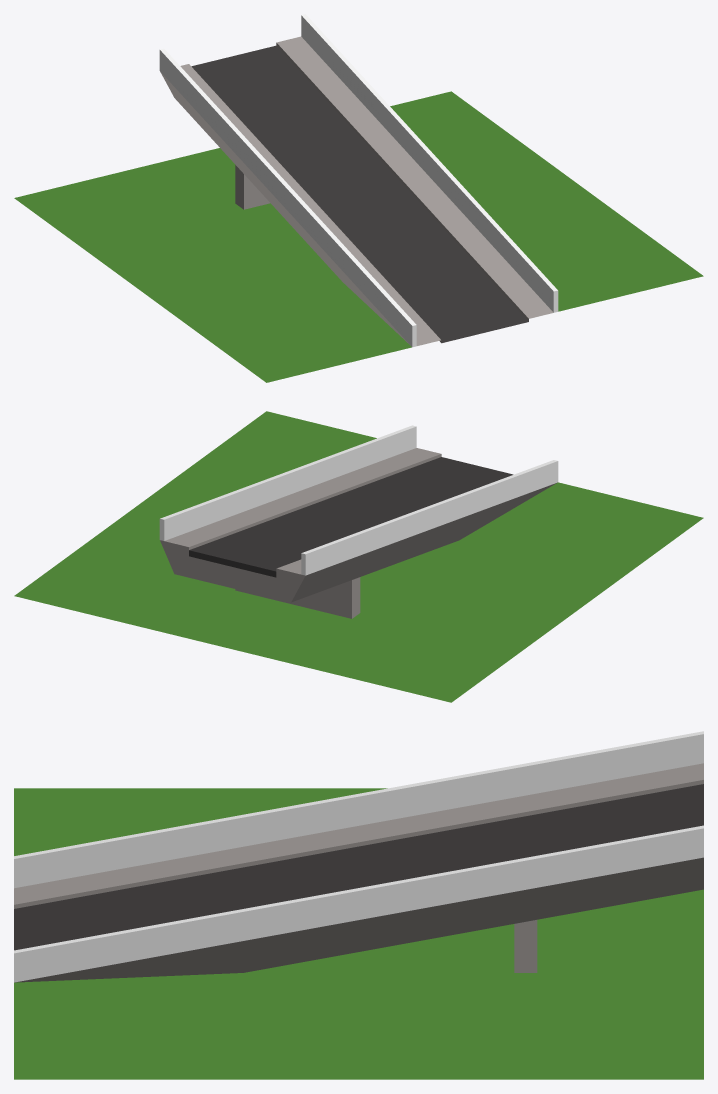
The model's file is tiles-nb_tile-bridge-road-hill-nb.fbx.
The picture shows the model from 3 angles, top to bottom: view 1: azimuth 30°, elevation 25°; view 2: azimuth 150°, elevation 25°; view 3: azimuth 270°, elevation 25°; orthographic projection. The views are drawn at different scales.
Visible parts, largest first — view 1: tiles_nb_tile_bridge_road_hill_nb; view 2: tiles_nb_tile_bridge_road_hill_nb; view 3: tiles_nb_tile_bridge_road_hill_nb.
Boxes of the visible parts, x1,y1,x2,y2 form: tiles_nb_tile_bridge_road_hill_nb: (14,14,703,382); tiles_nb_tile_bridge_road_hill_nb: (14,411,703,702); tiles_nb_tile_bridge_road_hill_nb: (14,731,703,1079).
Bounding box in the file's own units: 200 × 50.67 × 200.
